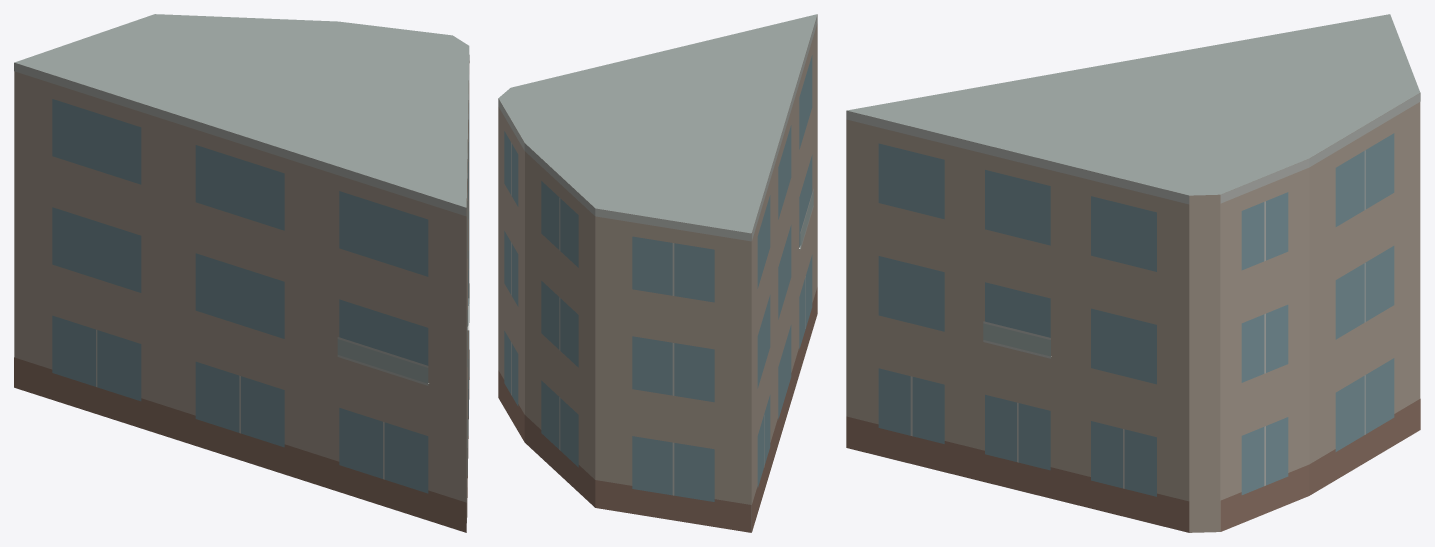
Rendered from survey-upis-32520874.glb.
3 views of the same model, side by side, from view 1: azimuth 30°, elevation 25°; view 2: azimuth 150°, elevation 25°; view 3: azimuth 270°, elevation 25° (orthographic). The views are drawn at different scales.
Parts seen in each view (by area): view 1: survey-upis-32520874.tmp; view 2: survey-upis-32520874.tmp; view 3: survey-upis-32520874.tmp.
Boxes of the visible parts, box(x1,y1,x2,y2) form: survey-upis-32520874.tmp: box(14, 14, 469, 532); survey-upis-32520874.tmp: box(498, 14, 817, 532); survey-upis-32520874.tmp: box(846, 14, 1420, 532).
Bounding box in the file's own units: 10.57 × 9.15 × 14.12.
